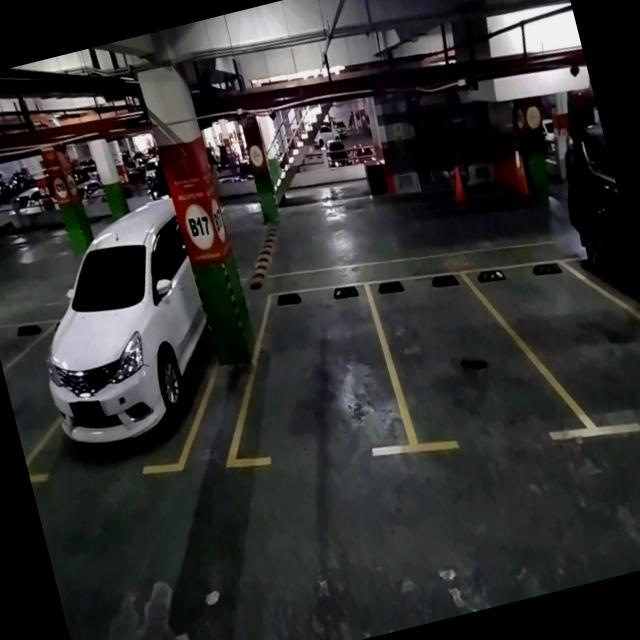car: (11, 220, 238, 492)
free: (210, 276, 417, 497), (367, 254, 558, 479), (505, 232, 640, 458)
